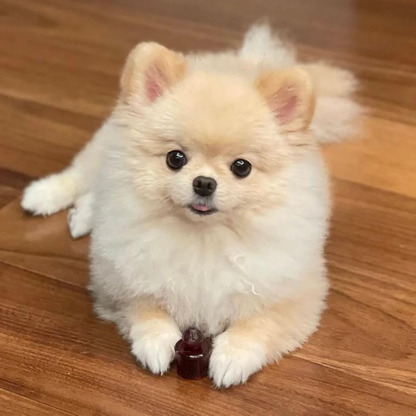Pomeranian: (47, 28, 361, 381)
